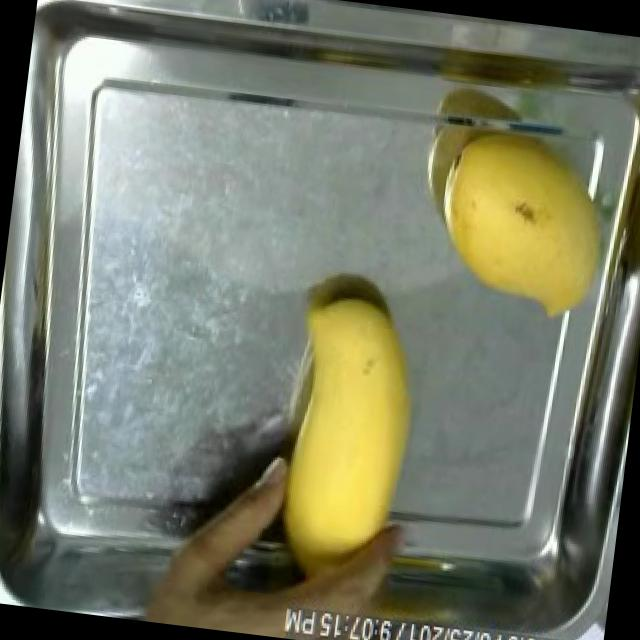fruit: (258, 274, 442, 586), (417, 108, 628, 327)
